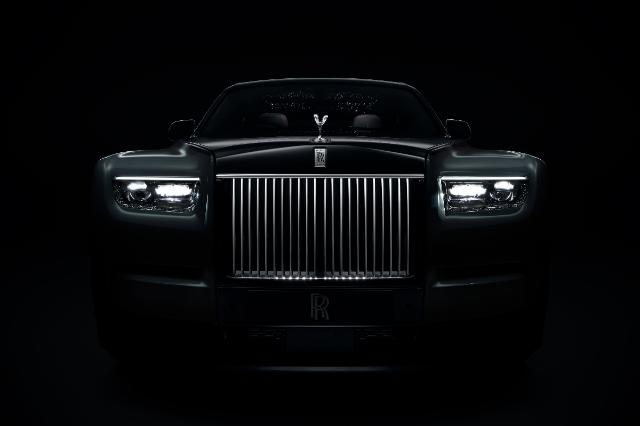rolls-royce: (92, 78, 548, 376)
